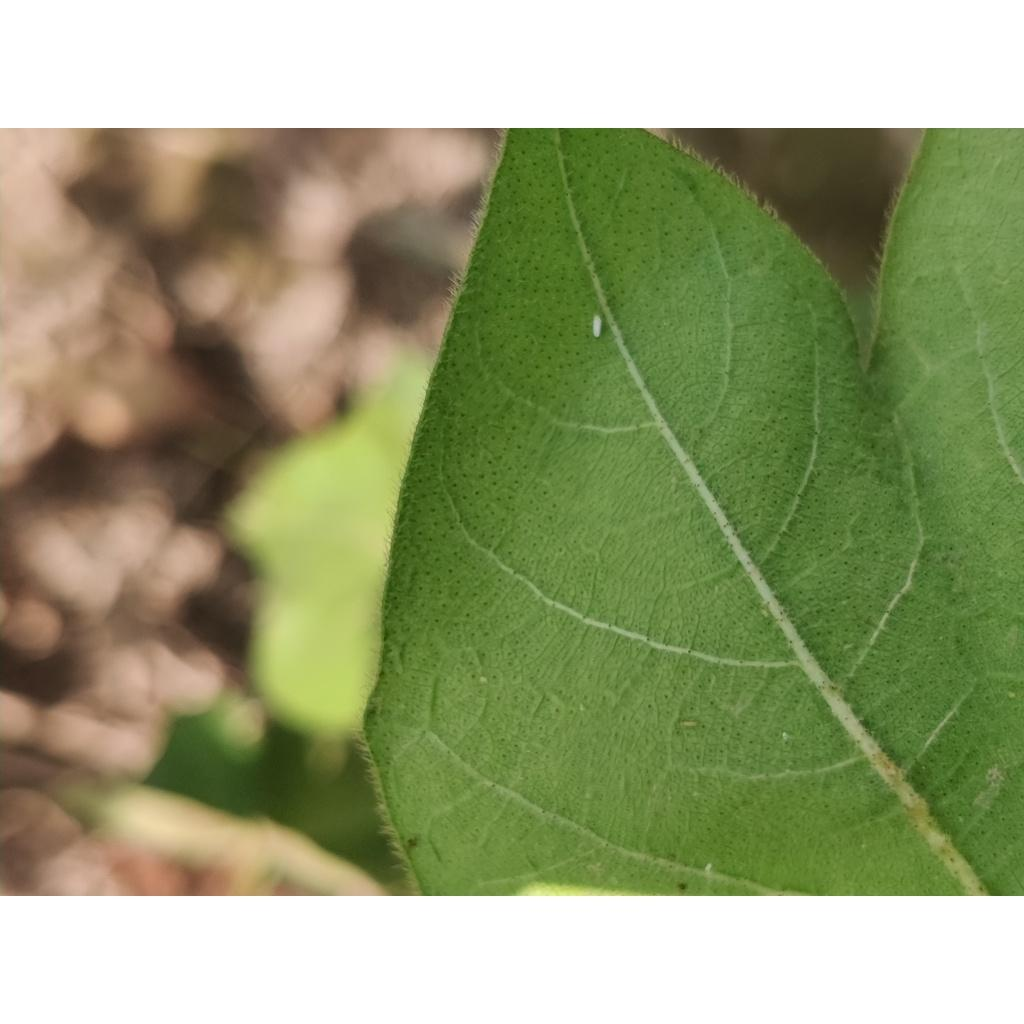adult: (591, 313, 602, 338), (761, 609, 769, 619), (705, 863, 713, 872), (478, 676, 487, 684)
